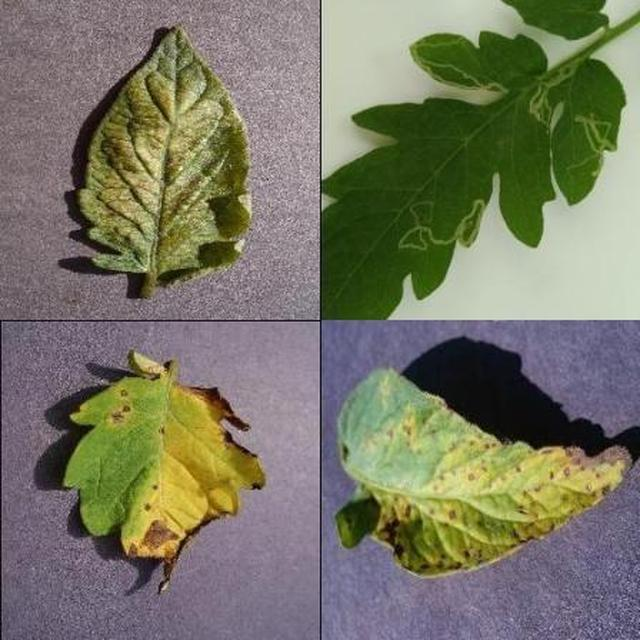Spider Mites Leaf: (231, 211, 640, 640)
